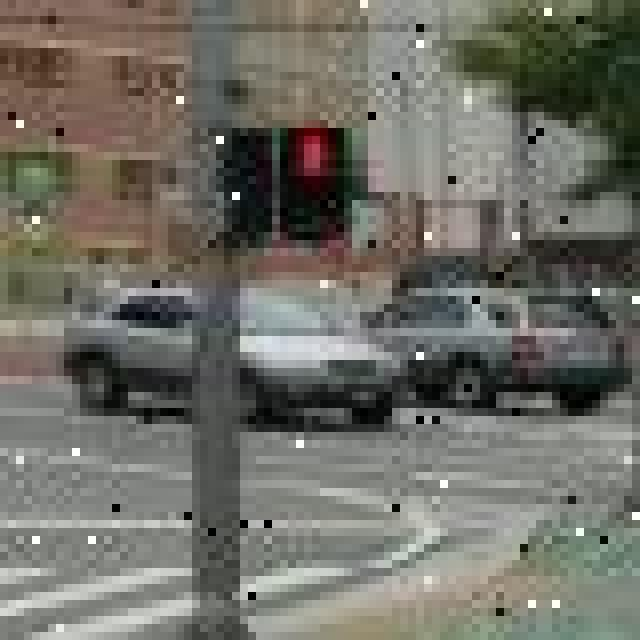redlight: (278, 123, 352, 249)
